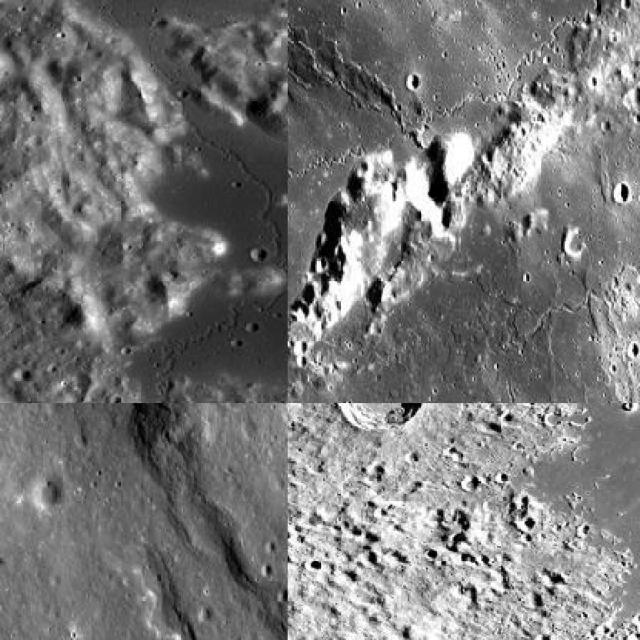rille: (287, 0, 638, 288), (23, 110, 286, 402)
